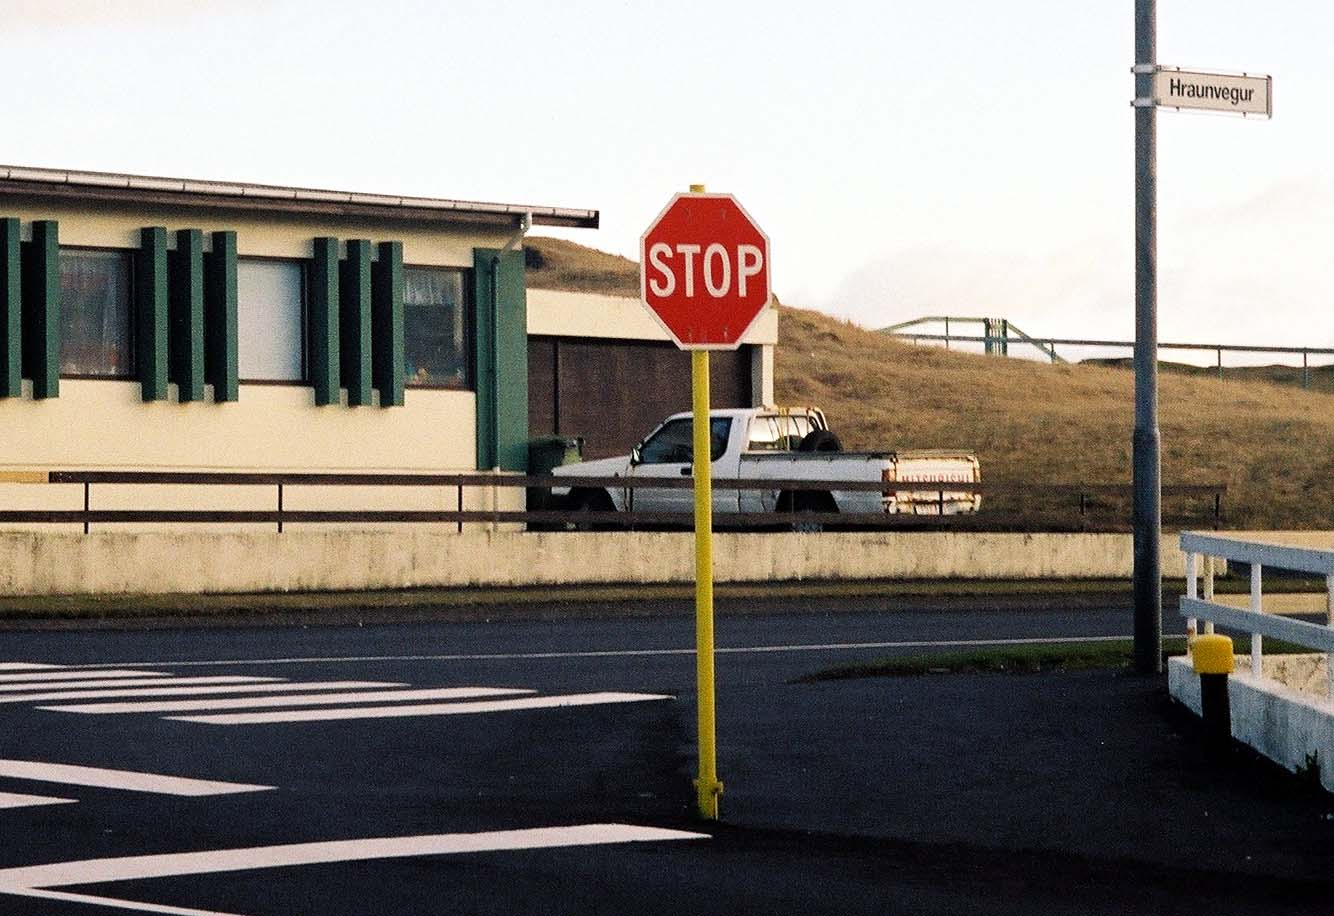stop: (641, 197, 772, 353)
